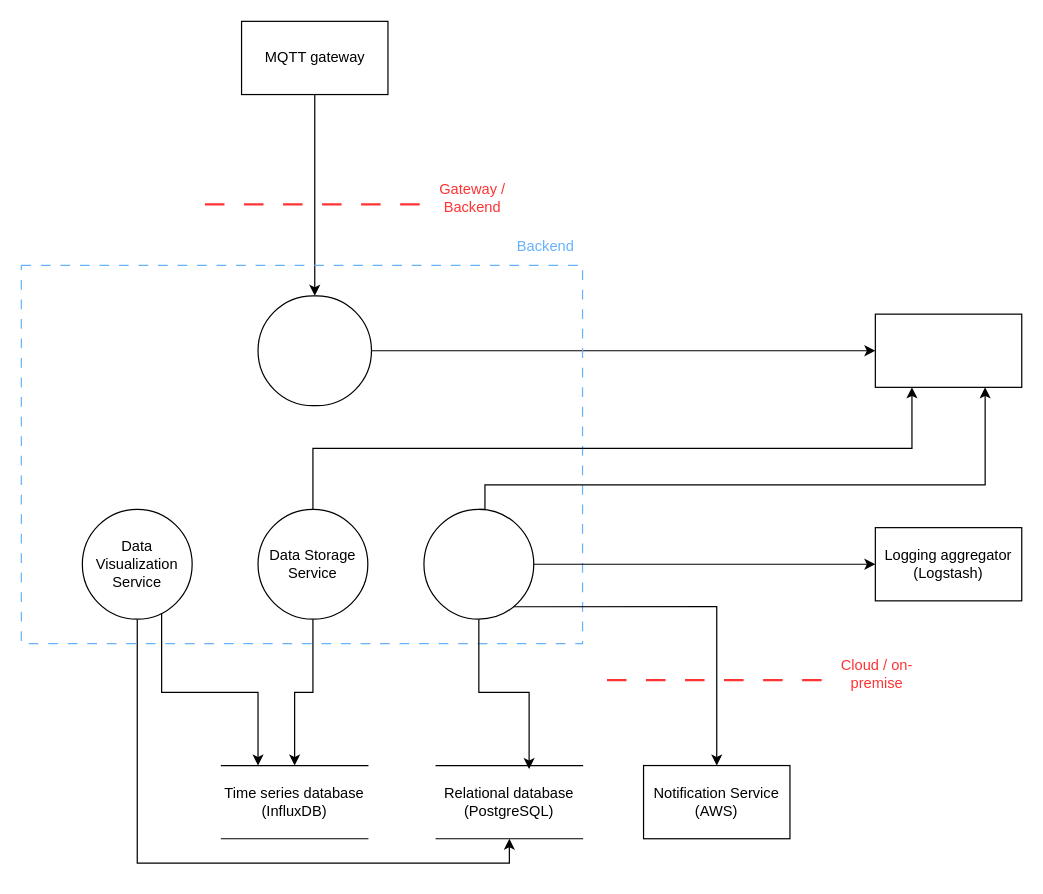
The diagram is 1043 pixels wide and 894 high, and some of its shapes have lost their labels. Here are the shapes that lost their labels. From the top down, the box of each, then its label:
(257, 295, 371, 406): Processing Service
(874, 313, 1022, 387): Message broker (RabbitMQ)
(423, 508, 534, 619): Alert Service
